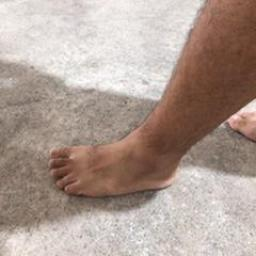Lateral View -Left Foot-: (42, 111, 202, 213)
